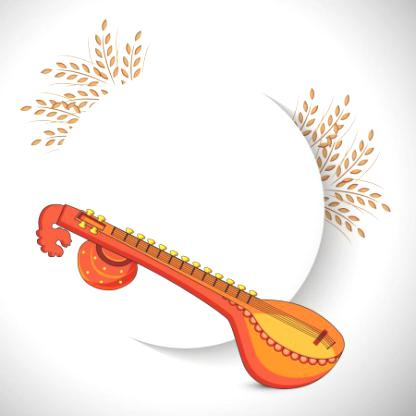Veena: (116, 228, 350, 391)
